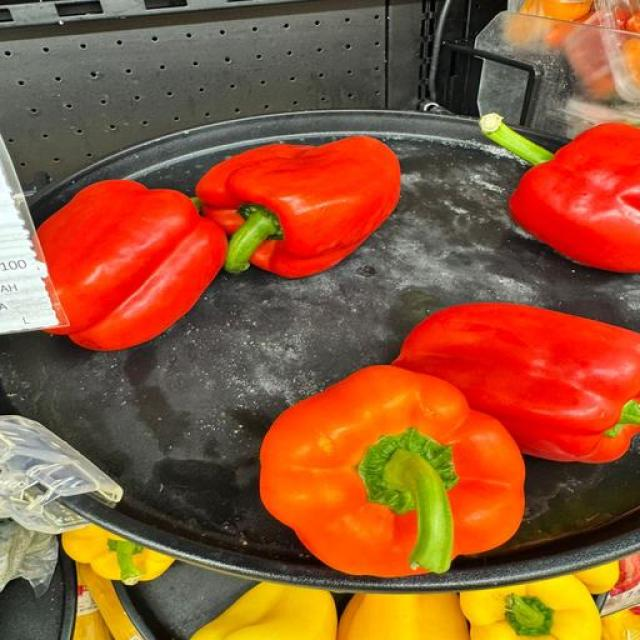organic: (260, 365, 524, 576), (394, 303, 639, 462), (38, 180, 226, 349), (197, 137, 399, 277), (510, 123, 639, 272), (359, 428, 457, 573), (225, 204, 283, 273), (480, 114, 553, 166), (505, 594, 553, 636), (108, 539, 143, 584), (610, 554, 639, 596), (624, 13, 639, 33)
